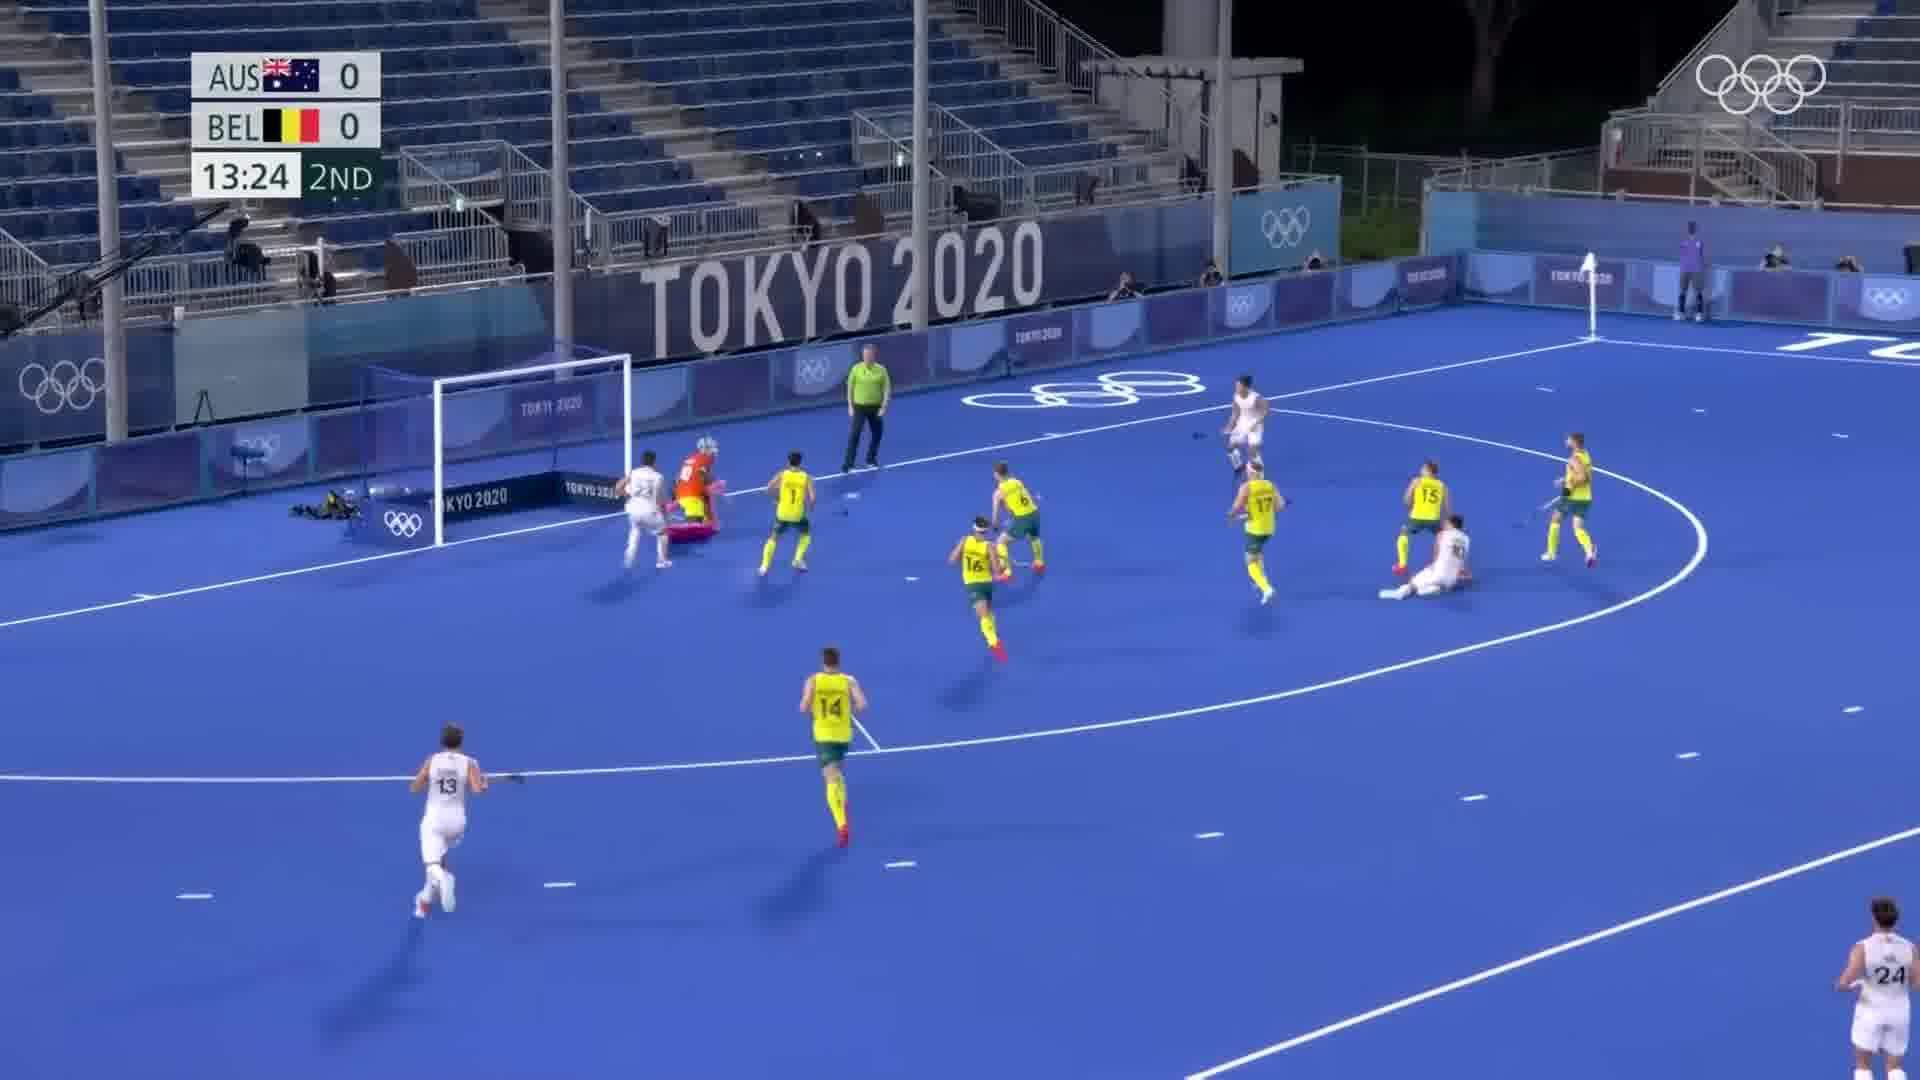ball: (839, 487, 870, 504)
